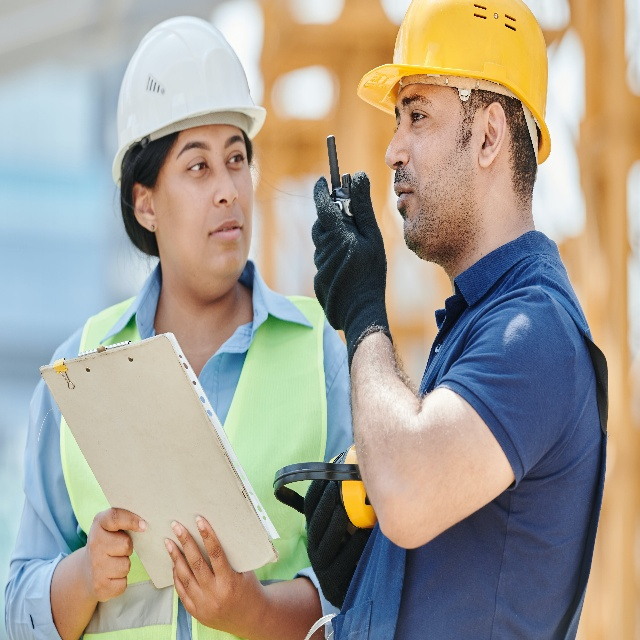Gafas: (301, 611, 338, 640)
Guantes: (306, 164, 397, 365), (301, 482, 376, 593)
Sin_guantes: (163, 507, 270, 637), (85, 504, 149, 598)
